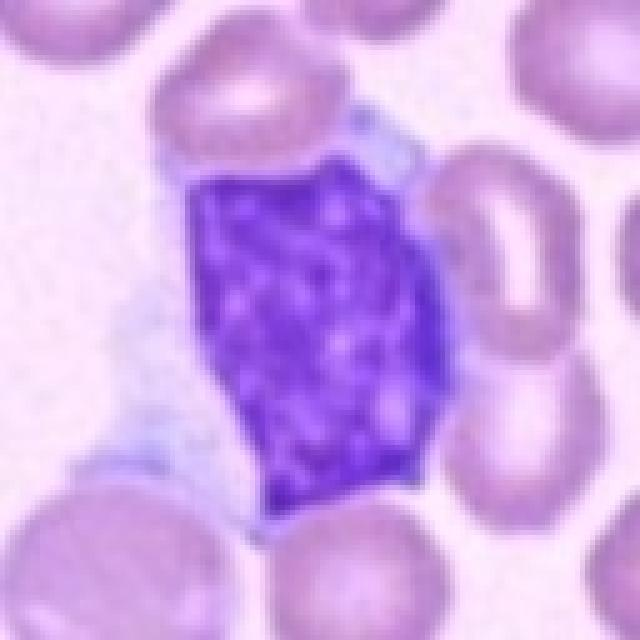lympho: (75, 100, 490, 532)
